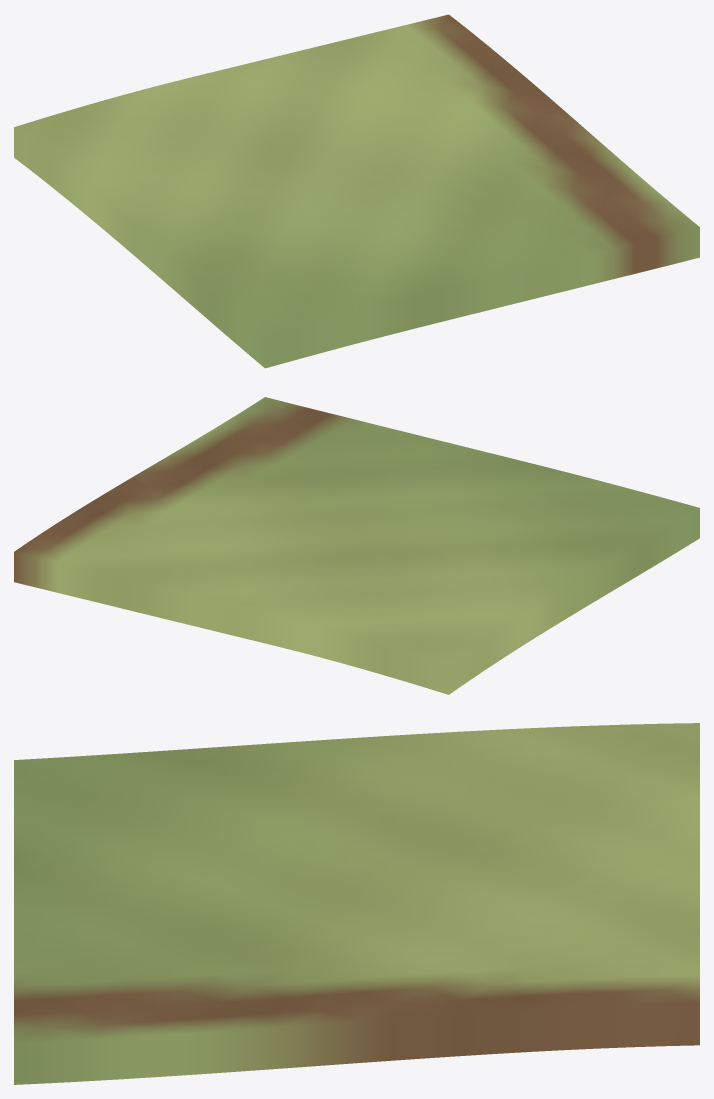
3 views of the same model, one above another, from view 1: azimuth 30°, elevation 25°; view 2: azimuth 150°, elevation 25°; view 3: azimuth 270°, elevation 25° (orthographic). The views are drawn at different scales.
Parts seen in each view (by area): view 1: terrain; view 2: terrain; view 3: terrain.
Part boxes in pixels (x1,y1,x2,y2): terrain: [14, 14, 699, 368]; terrain: [14, 397, 699, 694]; terrain: [14, 723, 699, 1084].
Size of the model in its own units: 30 by 4.23 by 30.
